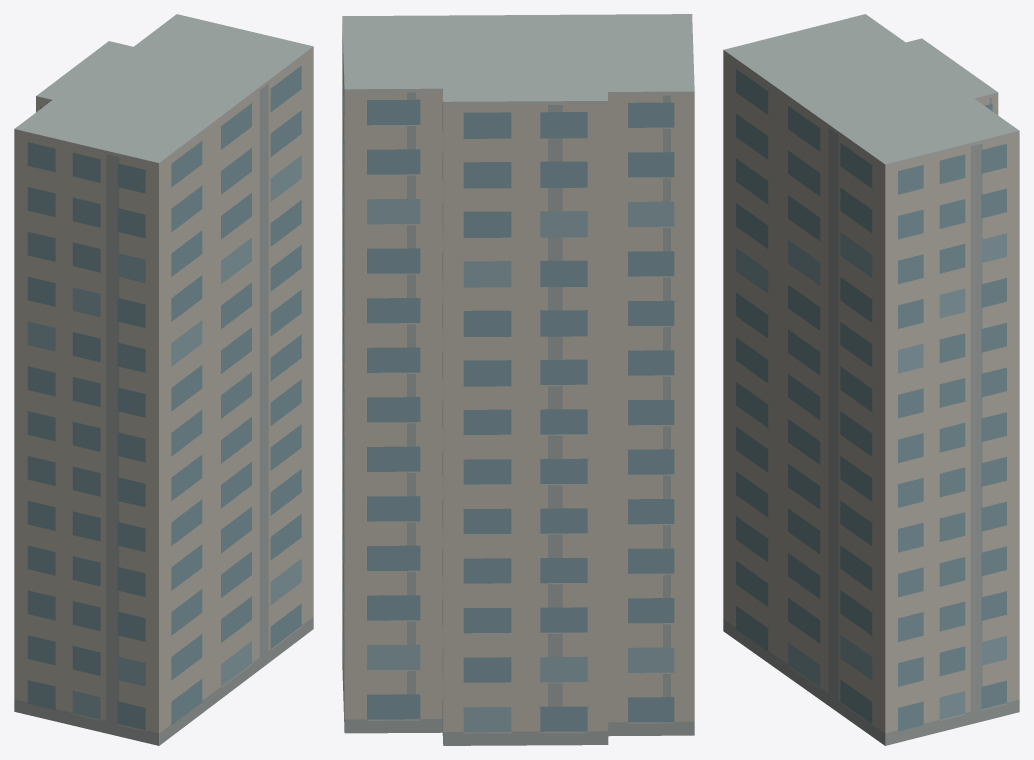
Rendered from residential-b5b9de42-b414-4292-b1ed-243656fae738.glb.
3 views of the same model, side by side, from view 1: azimuth 30°, elevation 25°; view 2: azimuth 150°, elevation 25°; view 3: azimuth 270°, elevation 25° (orthographic). The views are drawn at different scales.
Visible parts, largest first — view 1: residential-b5b9de42-b414-4292-b1ed-243656fae738.tmp; view 2: residential-b5b9de42-b414-4292-b1ed-243656fae738.tmp; view 3: residential-b5b9de42-b414-4292-b1ed-243656fae738.tmp.
Part boxes in pixels (bbox=[...]): residential-b5b9de42-b414-4292-b1ed-243656fae738.tmp: bbox=[14, 14, 313, 745]; residential-b5b9de42-b414-4292-b1ed-243656fae738.tmp: bbox=[342, 14, 694, 745]; residential-b5b9de42-b414-4292-b1ed-243656fae738.tmp: bbox=[723, 14, 1019, 745].
Size of the model in its own units: 22.76 by 41 by 18.93.
